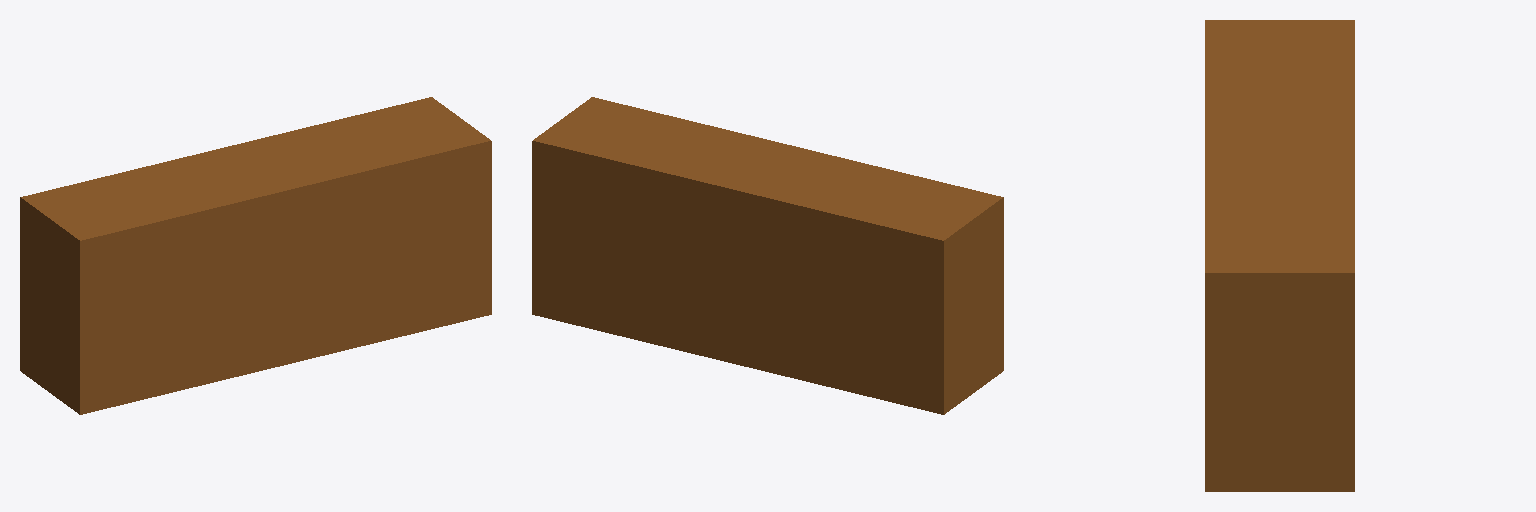
robot.urdf — calibration_table:
<?xml version="1.0" ?>
<!-- Table collision object. Origin at geometric center.
     Dimensions: 1.8288 x 0.46 x 0.74 m -->
<robot name="calibration_table" xmlns:xacro="http://wiki.ros.org/xacro">
  <link name="calibration_table">
    <visual>
      <geometry><box size="1.8288 0.46 0.74"/></geometry>
      <material name="table_color"><color rgba="0.6 0.4 0.2 1.0"/></material>
    </visual>
    <collision>
      <geometry><box size="1.8288 0.46 0.74"/></geometry>
    </collision>
  </link>
</robot>

--- What the picture shows (computed from the rendered views, not written in the file) ---
3 views of the same robot in one strip: view 1: azimuth 30°, elevation 25°; view 2: azimuth 150°, elevation 25°; view 3: azimuth 270°, elevation 25° (orthographic).
Model calibration_table with 1 links and 0 joints (none), rooted at calibration_table, posed all joints at 0.
Links seen in each view (by area): view 1: calibration_table; view 2: calibration_table; view 3: calibration_table.
Boxes of the visible links, x1,y1,x2,y2 form: calibration_table: (20, 97, 491, 414); calibration_table: (532, 97, 1003, 414); calibration_table: (1205, 20, 1354, 491).
Size in the robot's own frame: 1.83 by 0.46 by 0.74 metres.
Geometry: primitives only (box / cylinder / sphere), no mesh files.
